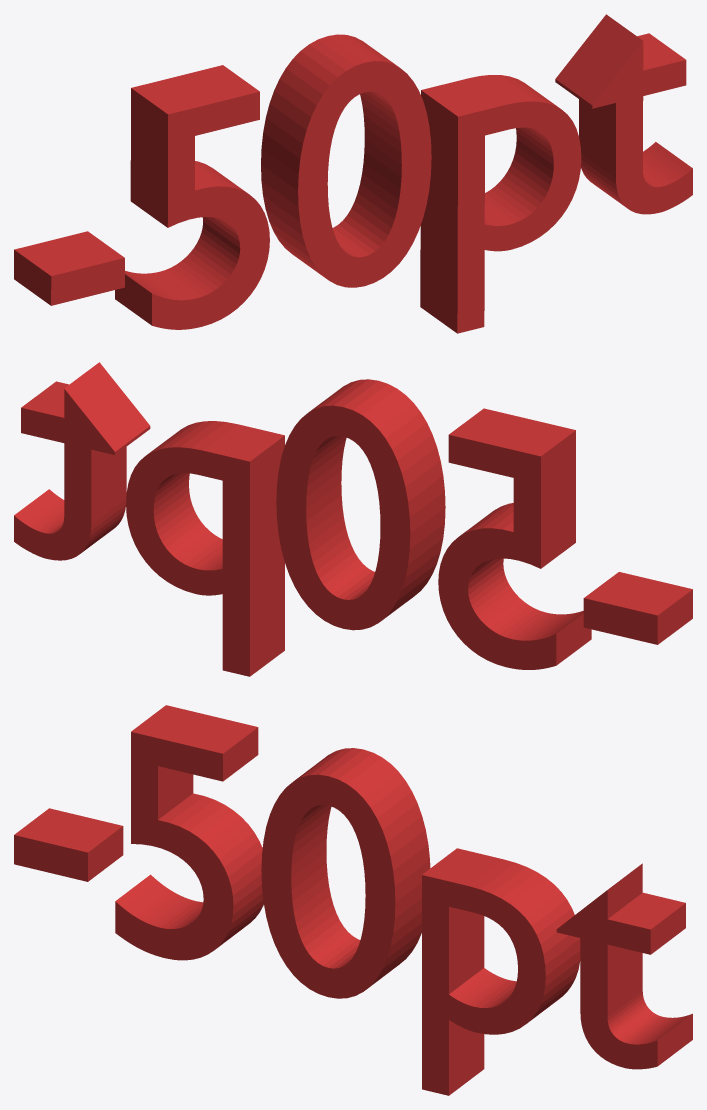
The model's file is point_minus.dae.
3 views of the same model, one above another, from view 1: azimuth 30°, elevation 25°; view 2: azimuth 150°, elevation 25°; view 3: azimuth 330°, elevation 25° (orthographic).
Visible parts, largest first — view 1: minus; view 2: minus; view 3: minus.
Boxes of the visible parts, x1,y1,x2,y2 form: minus: (14, 14, 692, 333); minus: (14, 362, 692, 676); minus: (14, 705, 692, 1095).
Bounding box in the file's own units: 2.12 × 0.2319 × 0.9222.
